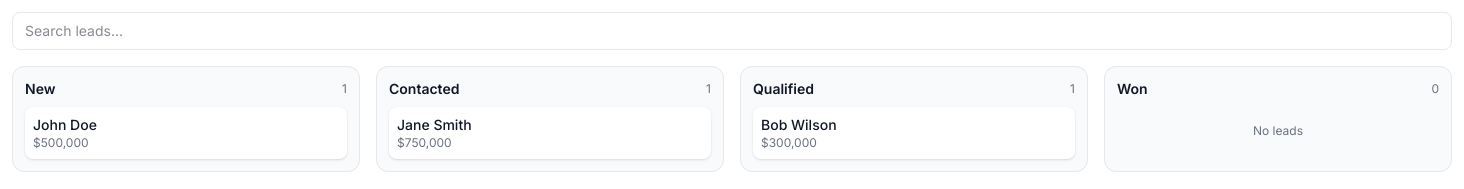
it: LeadPipeline (Kanban) › filters leads by search query
The width and height of the screenshot is (1464, 189).
In the field with placeholder "Search leads...": {"x": 732, "y": 31} top-left (12, 12), bottom-right (1452, 50), type "John"
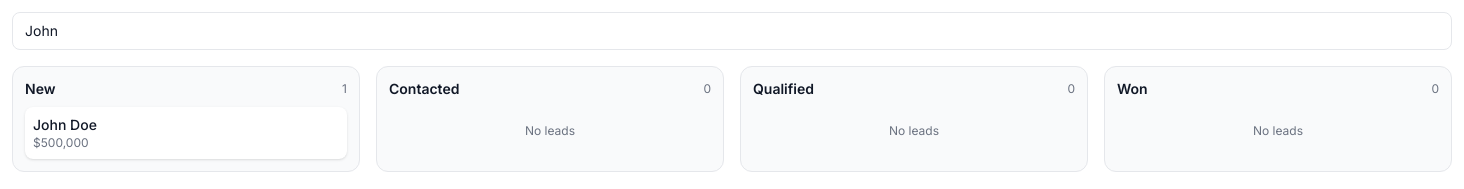
Expected: the text "John Doe" is shown, top-left (33, 116), bottom-right (97, 133)
Expected: the text "Jane Smith" is gone
